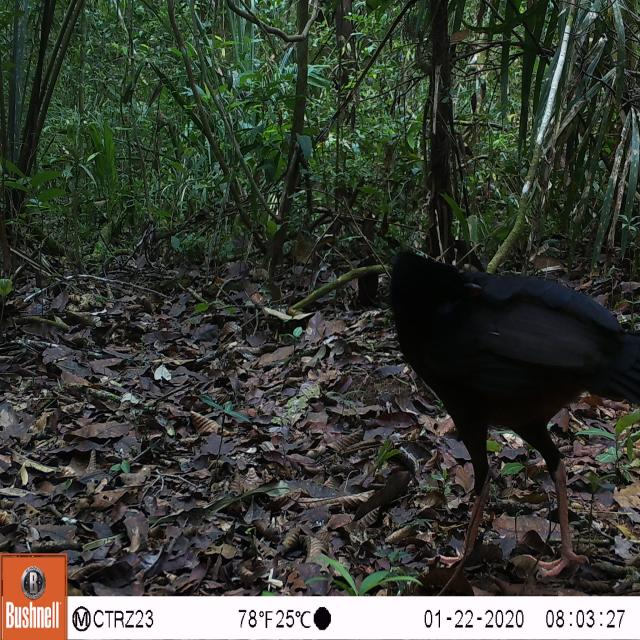Salvins Curassow: (380, 229, 640, 592)
